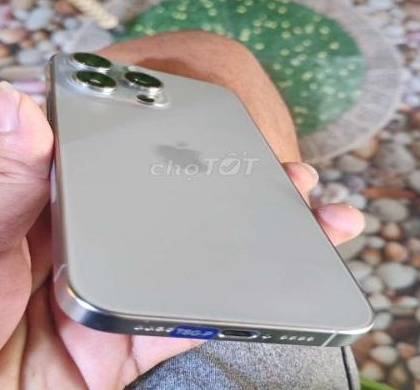scratch: (141, 316, 151, 323)
